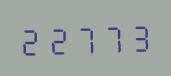seven: (72, 20, 98, 55), (99, 19, 125, 54)
three: (126, 18, 152, 53)
two: (18, 22, 44, 57), (45, 21, 71, 56)
